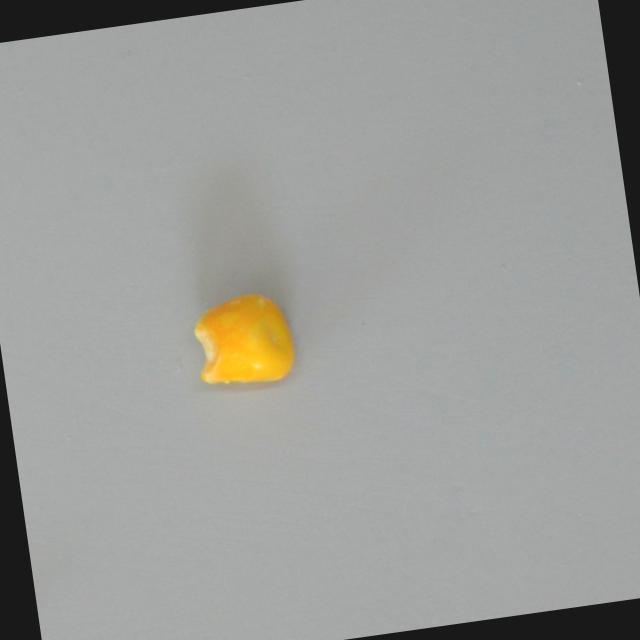no_canjicado: (187, 284, 299, 392)
